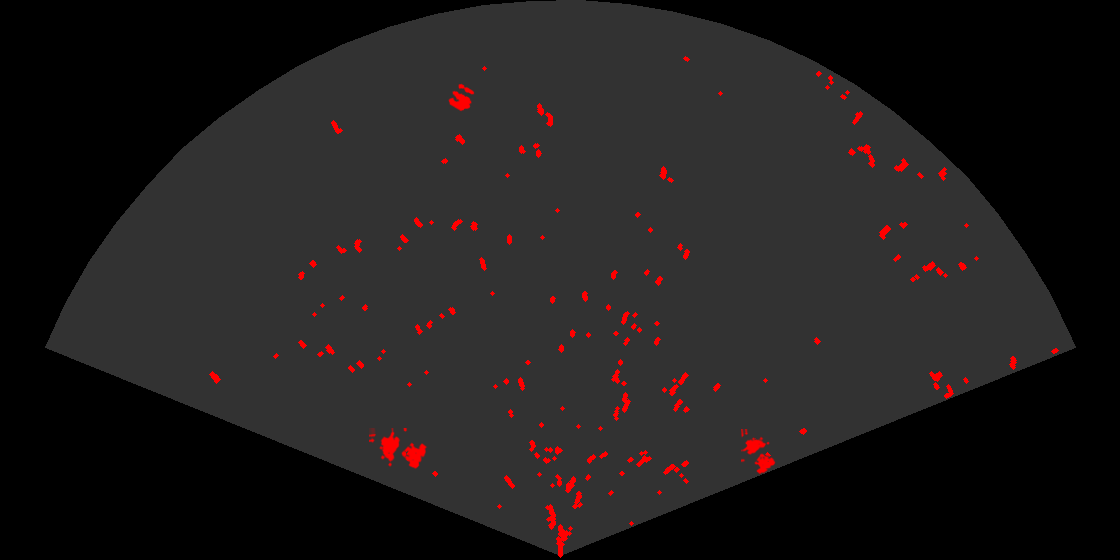ball: (447, 82, 476, 113)
cage: (369, 428, 429, 471), (741, 429, 777, 476)
